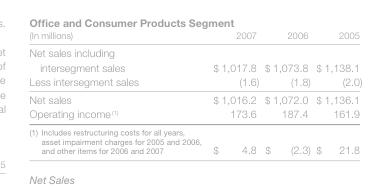table: (28, 29, 361, 155)
table column: (28, 29, 206, 155), (206, 29, 261, 155), (261, 29, 312, 155), (312, 29, 361, 155)
table column header: (28, 29, 361, 43)
table row: (28, 123, 361, 155), (28, 43, 361, 73), (28, 73, 361, 90), (28, 106, 361, 123), (28, 90, 361, 106), (28, 29, 361, 43)
